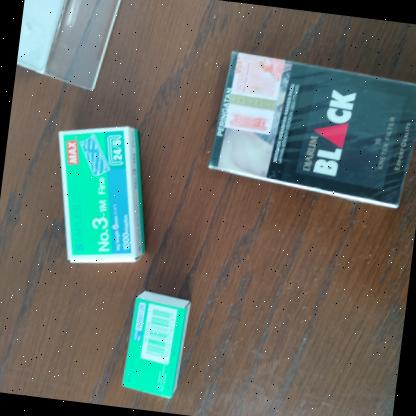bungkus rokok: (199, 46, 416, 214)
